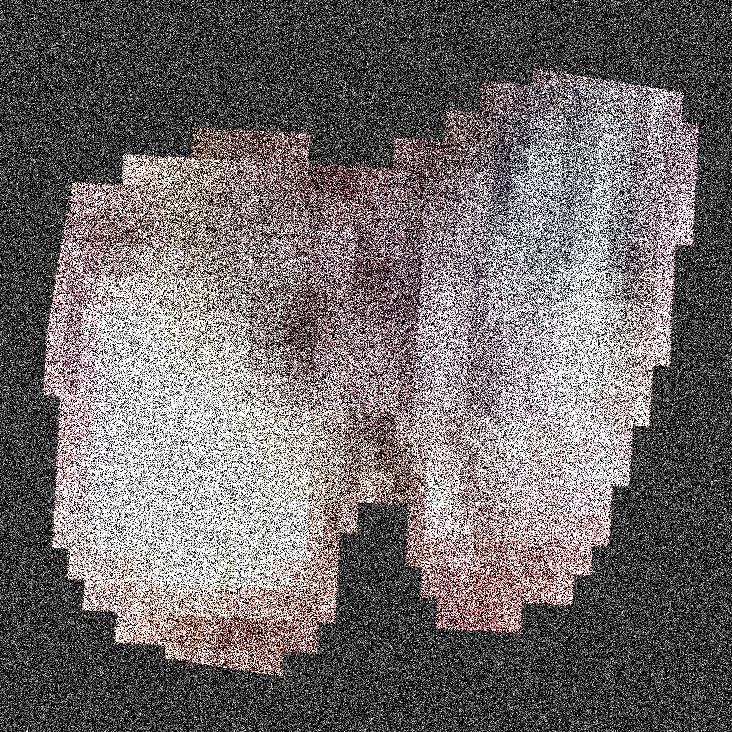Oculos: (121, 0, 629, 731)
